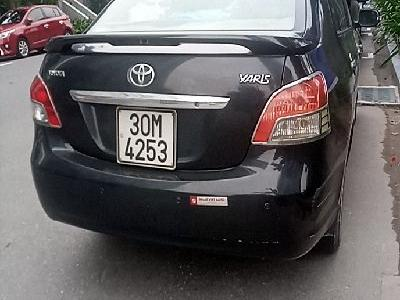lisence: (114, 106, 179, 171)
